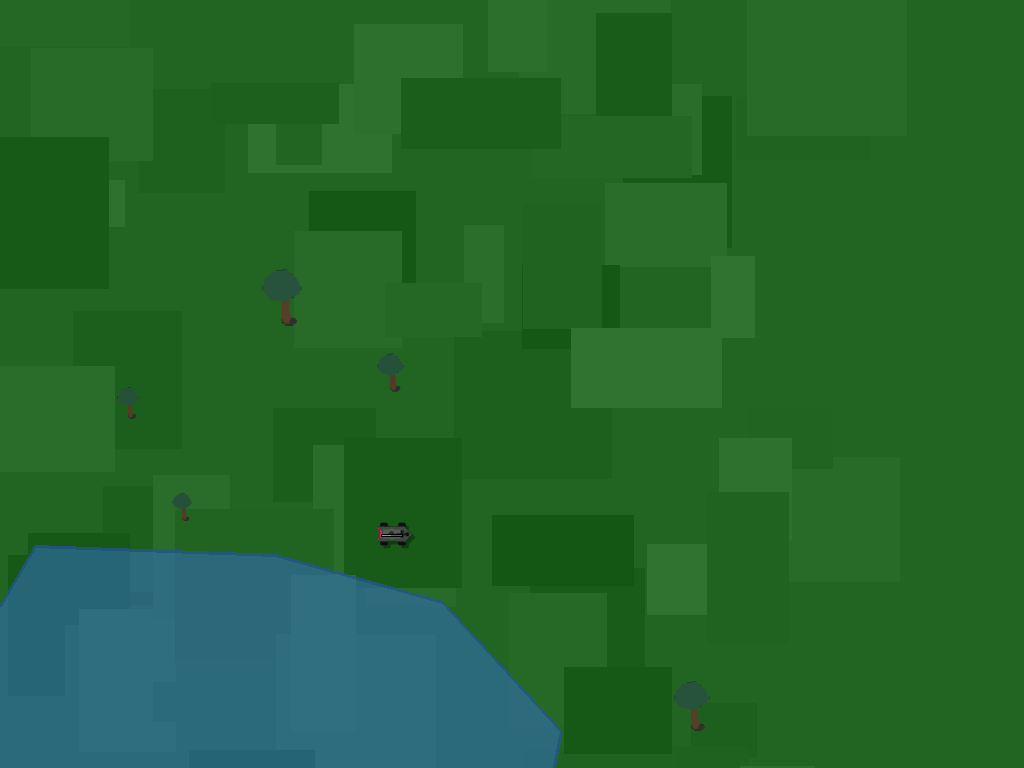ArmoredCar: (375, 516, 409, 550)
Lake: (0, 546, 561, 768)
